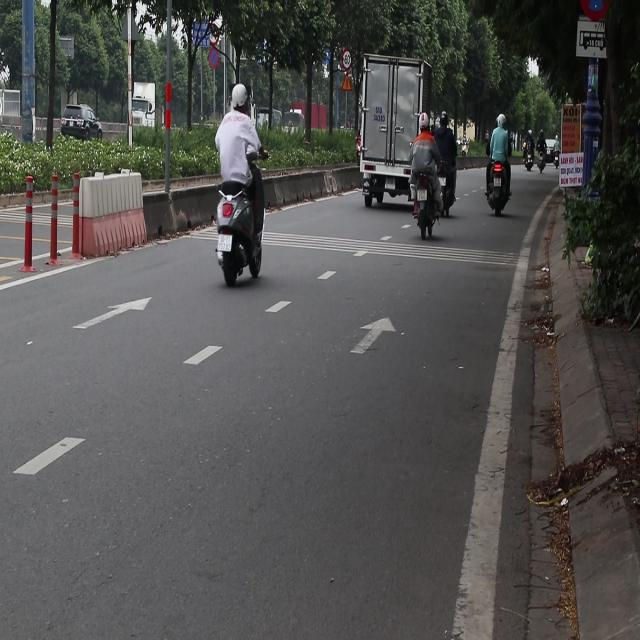car: (61, 106, 104, 143), (544, 136, 560, 162)
motorbike: (216, 166, 267, 286), (401, 160, 438, 244), (484, 153, 516, 216), (438, 152, 458, 227), (523, 150, 540, 173)
truck: (355, 55, 440, 213), (129, 67, 167, 139)
